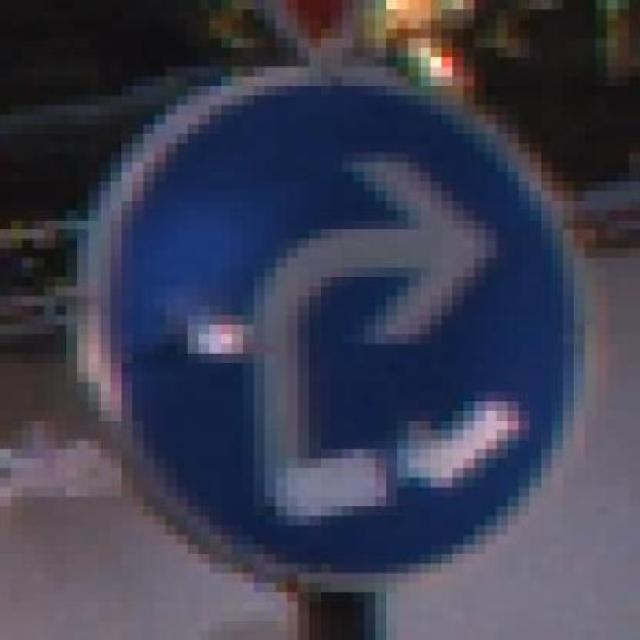Turn right ahead: (56, 57, 618, 583)
